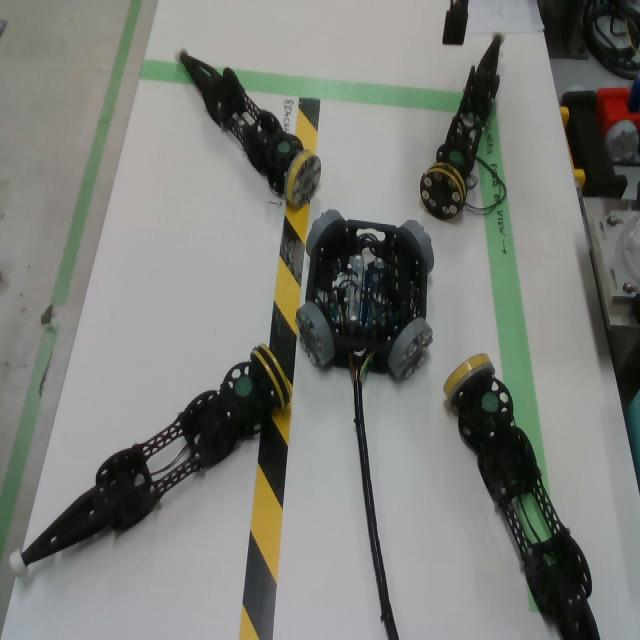body: (299, 210, 434, 378)
body_connector: (389, 317, 432, 380), (296, 302, 335, 366), (400, 220, 434, 272), (306, 212, 344, 254)
leg: (11, 345, 291, 574), (444, 353, 599, 638), (179, 50, 320, 208), (421, 33, 502, 218)
leg_connector: (444, 353, 495, 404), (251, 343, 291, 406), (421, 163, 466, 218), (285, 150, 321, 208)
leg_marker: (235, 375, 252, 396), (482, 392, 499, 411), (449, 150, 462, 164), (278, 142, 291, 152)
